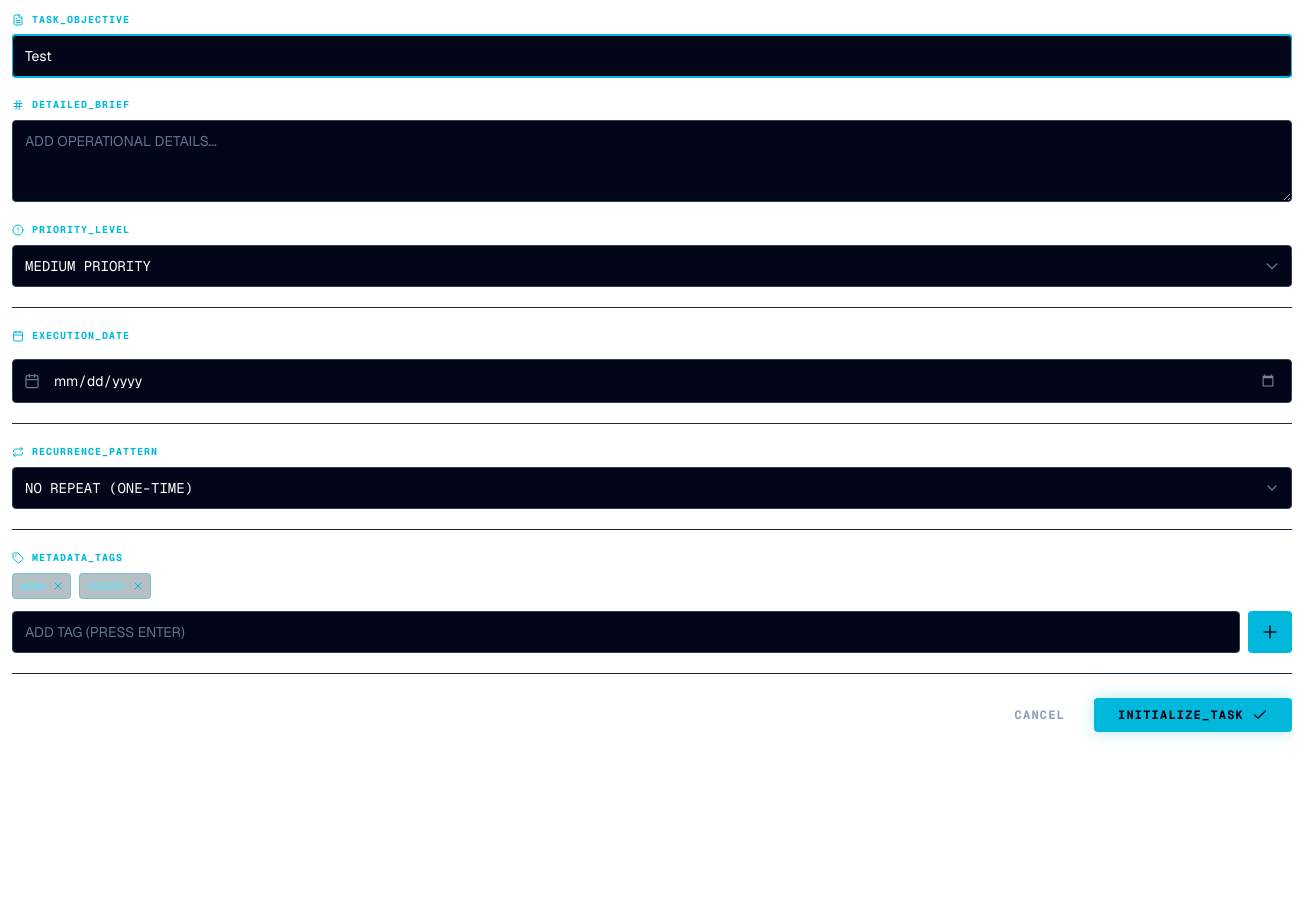
Test: TaskForm Component › Tags Management › removes tag when X button is clicked
This screenshot has width=1304, height=912.
Expected: the text "work" is shown, [12,573,71,599]
Step 1. Click the button without text next to "work" → x=58, y=586, box [50,578,66,594]
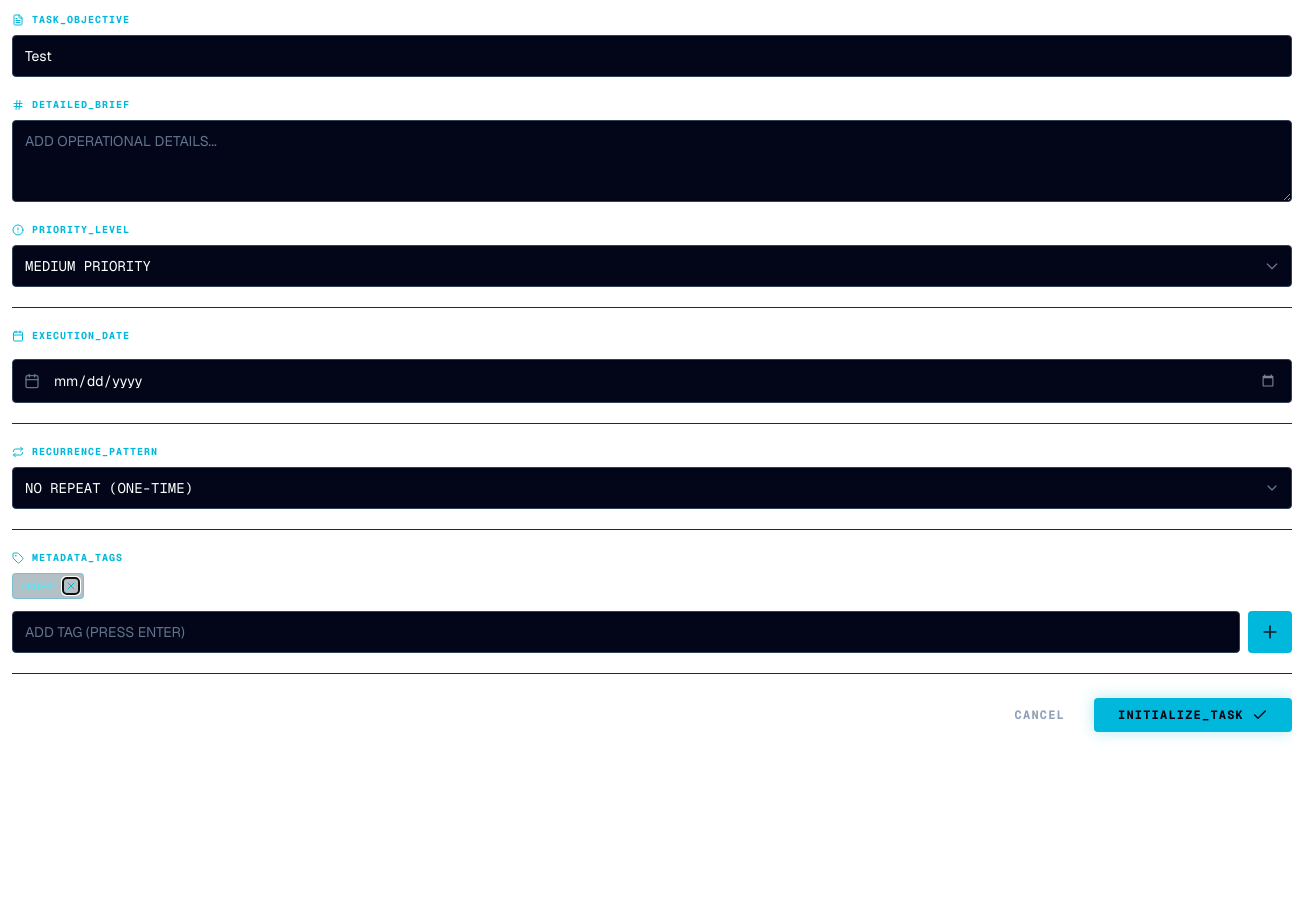
Now the text "work" is gone
